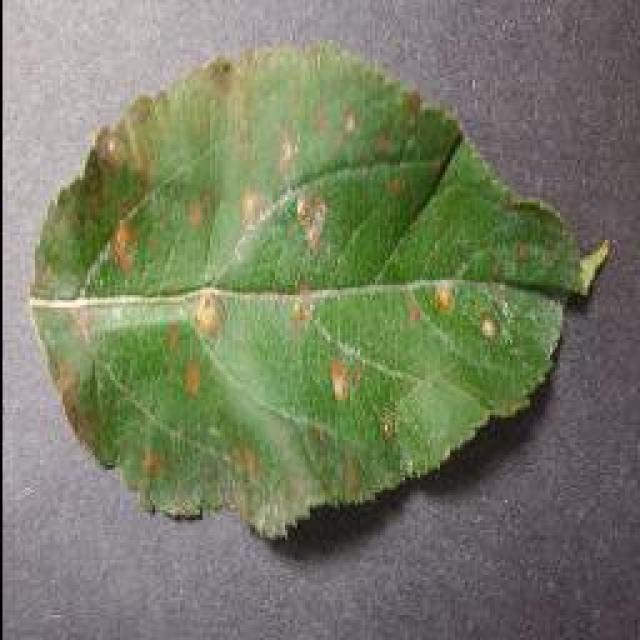apple healthy: (25, 38, 610, 540)
